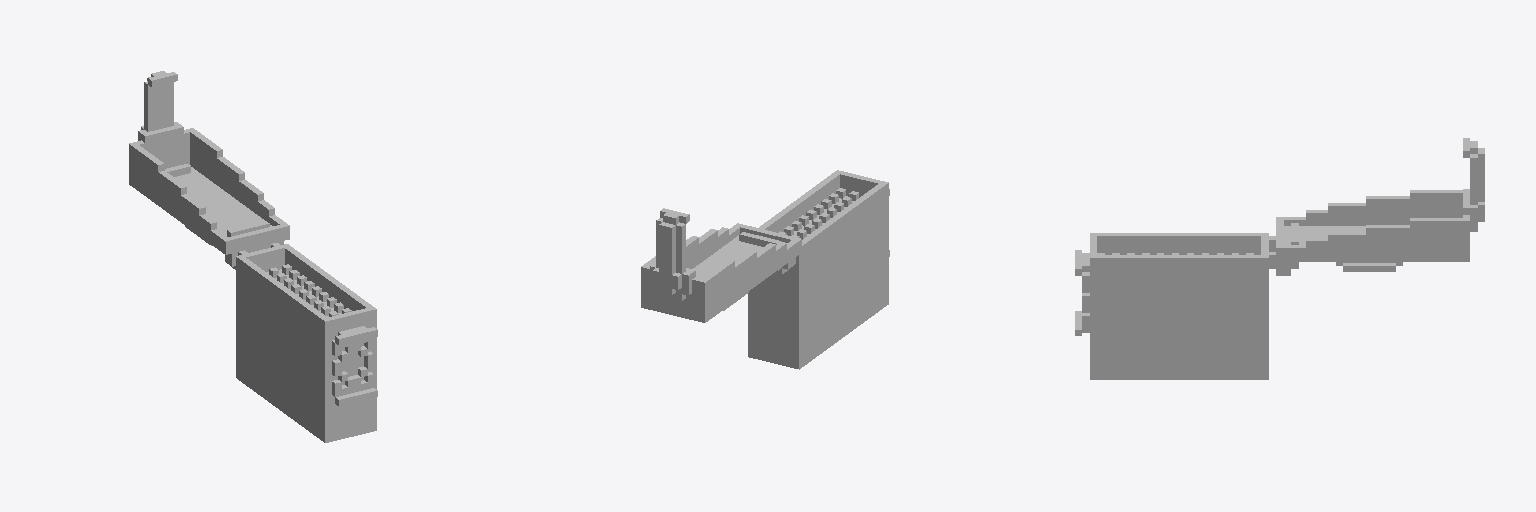
The model's file is AmmoBox.obj.
3 views of the same model, side by side, from view 1: azimuth 30°, elevation 25°; view 2: azimuth 150°, elevation 25°; view 3: azimuth 270°, elevation 25° (orthographic).
Bounding box in the file's own units: 10 × 33 × 55.